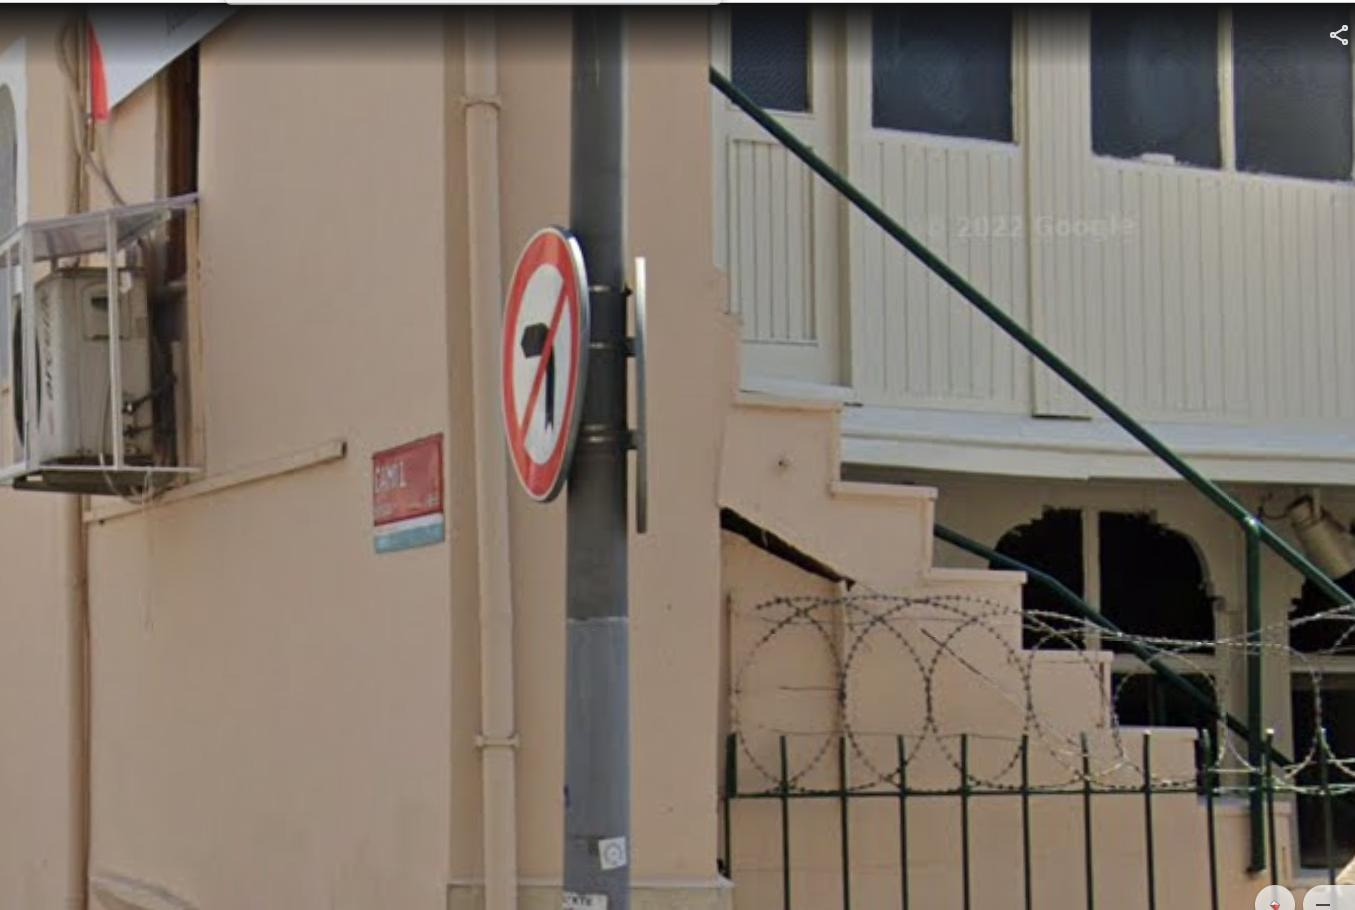leftturnsareforbidden: (491, 231, 602, 499)
